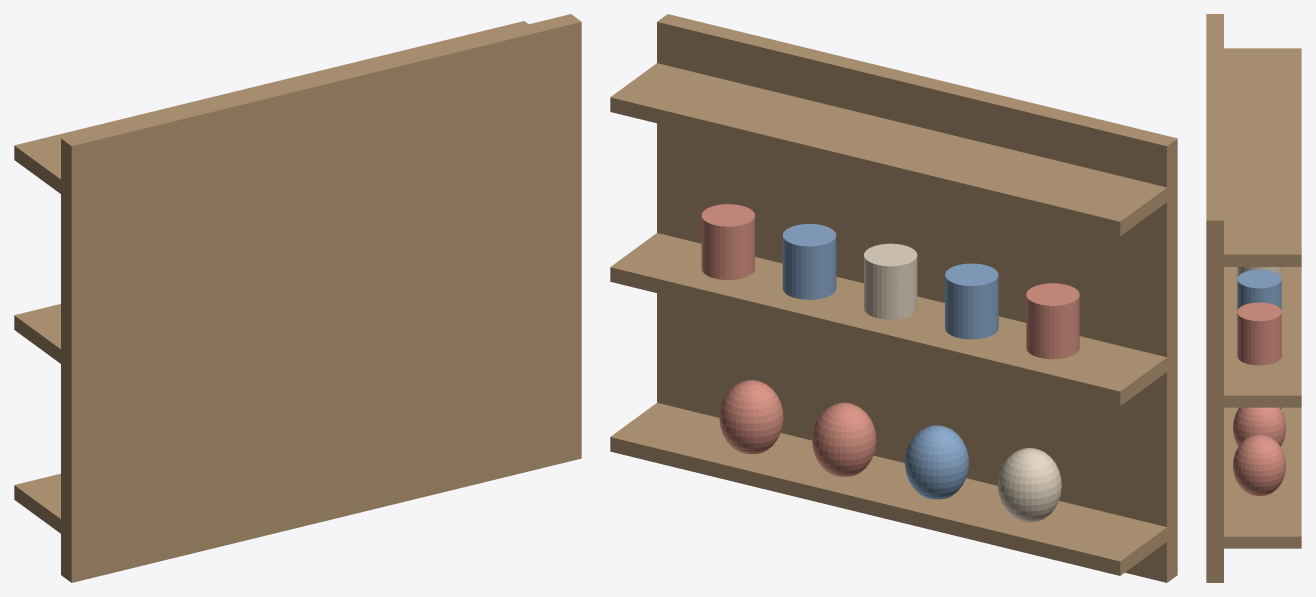
The model's file is pottery_shelf.glb.
3 views of the same model, side by side, from view 1: azimuth 30°, elevation 25°; view 2: azimuth 150°, elevation 25°; view 3: azimuth 270°, elevation 25° (orthographic). The views are drawn at different scales.
Parts seen in each view (by area): view 1: Cube, Cube.003, Cube.002, Cube.001; view 2: Cube, Cube.003, Cube.001, Cube.002, Pot_Top_3, Pot_Top_1, Pot_Top_2, Pot_Top_0, Pot_Top_4, Pot_Mid_2, Pot_Mid_1, Pot_Mid_0 (+1 smaller); view 3: Cube.003, Cube, Cube.001, Cube.002, Pot_Top_4, Pot_Mid_3, Pot_Mid_2, Pot_Top_3, Pot_Top_2.
Part boxes in pixels (box(x1,y1,x2,y2)): Cube: box(61, 14, 581, 582); Cube.003: box(14, 21, 528, 196); Cube.002: box(14, 304, 64, 366); Cube.001: box(14, 473, 60, 533); Cube: box(657, 14, 1177, 582); Cube.003: box(610, 63, 1170, 236); Cube.001: box(610, 403, 1170, 575); Cube.002: box(610, 233, 1170, 405); Pot_Top_3: box(782, 224, 836, 299); Pot_Top_1: box(945, 263, 998, 339); Pot_Top_2: box(864, 243, 917, 319); Pot_Top_0: box(1026, 283, 1079, 359); Pot_Top_4: box(701, 204, 754, 279); Pot_Mid_2: box(812, 402, 876, 476); Pot_Mid_1: box(905, 425, 968, 499); Pot_Mid_0: box(997, 448, 1061, 521); Cube.003: box(1217, 48, 1301, 266); Cube: box(1206, 14, 1223, 582); Cube.001: box(1218, 407, 1301, 548); Cube.002: box(1217, 267, 1301, 407); Pot_Top_4: box(1237, 302, 1281, 365); Pot_Mid_3: box(1233, 434, 1286, 495); Pot_Mid_2: box(1233, 407, 1286, 446); Pot_Top_3: box(1237, 269, 1281, 310); Pot_Top_2: box(1237, 267, 1281, 277).
Bounding box in the file's own units: 2.2 × 1.8 × 0.43.
